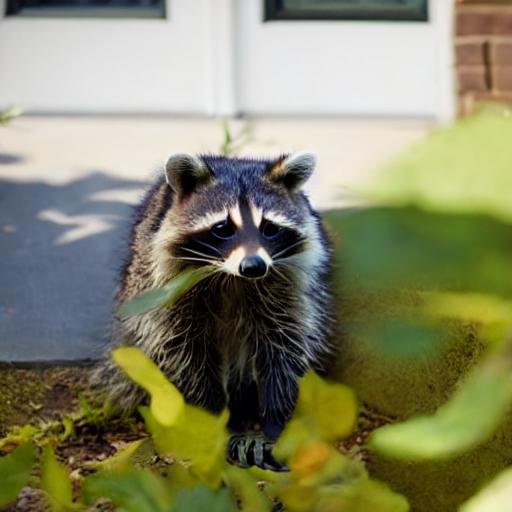raccoon: (109, 144, 336, 442)
